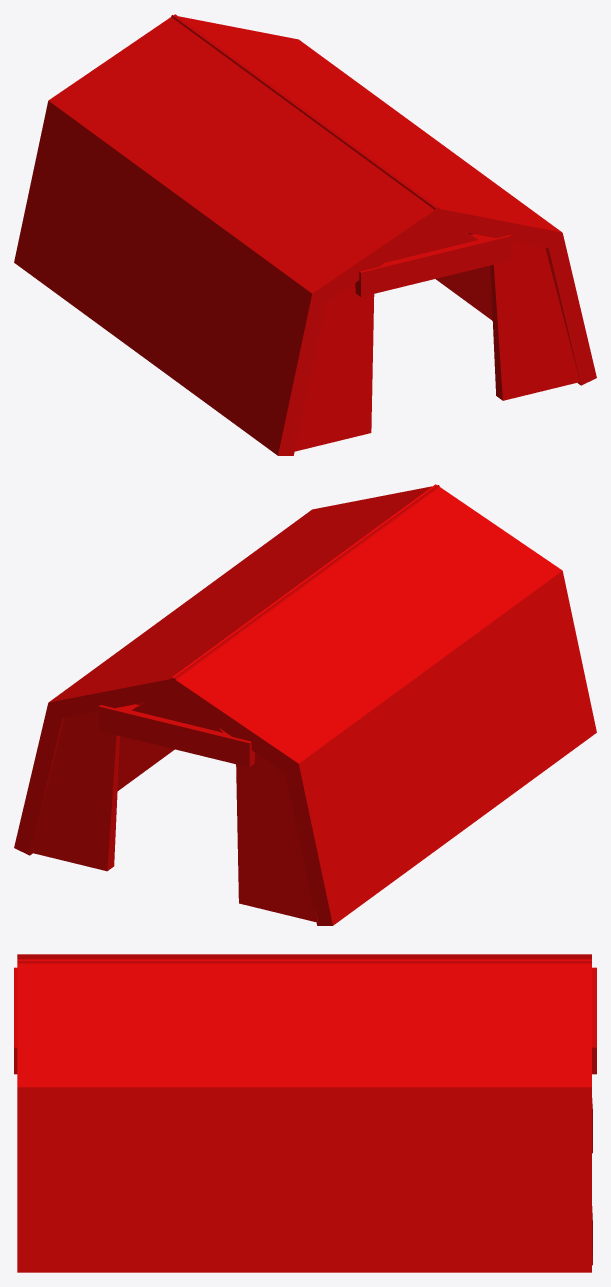
File: SM_Bld_Quarantine_Tent_01_Collision.fbx
3 views of the same model, one above another, from view 1: azimuth 30°, elevation 25°; view 2: azimuth 150°, elevation 25°; view 3: azimuth 270°, elevation 25° (orthographic). The views are drawn at different scales.
Parts seen in each view (by area): view 1: SM_Bld_Quarantine_Tent_01_Collision; view 2: SM_Bld_Quarantine_Tent_01_Collision; view 3: SM_Bld_Quarantine_Tent_01_Collision.
Part boxes in pixels (x1,y1,x2,y2): SM_Bld_Quarantine_Tent_01_Collision: (14,14,596,455); SM_Bld_Quarantine_Tent_01_Collision: (14,484,596,925); SM_Bld_Quarantine_Tent_01_Collision: (14,954,596,1272).
Size of the model in its own units: 521 by 332 by 757.
